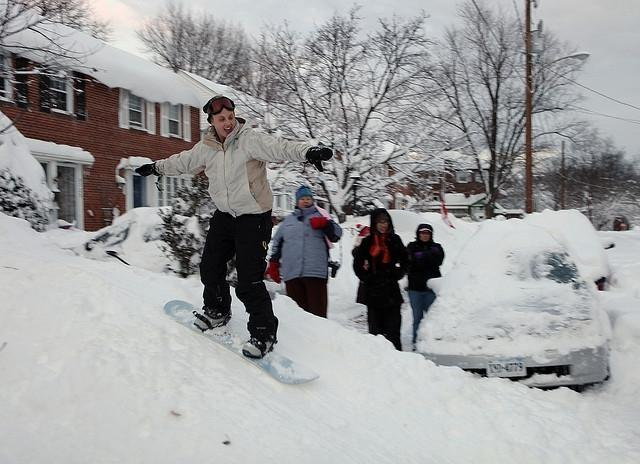car: (410, 219, 610, 396), (522, 208, 614, 290)
